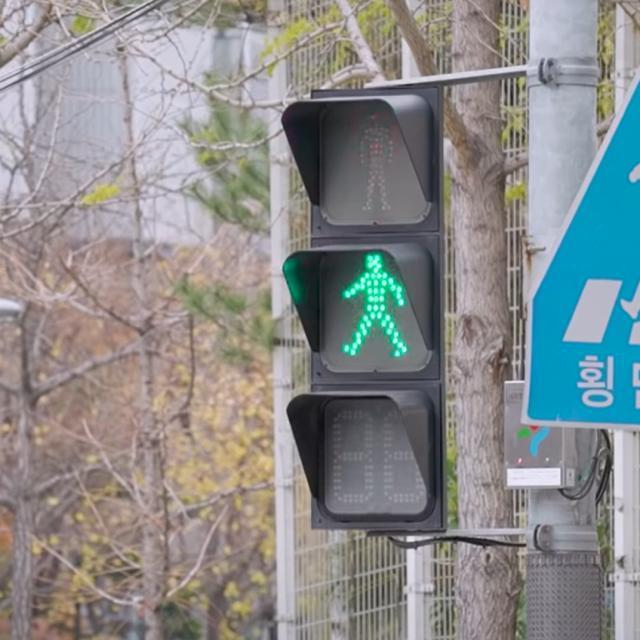green_light: (306, 249, 436, 372)
